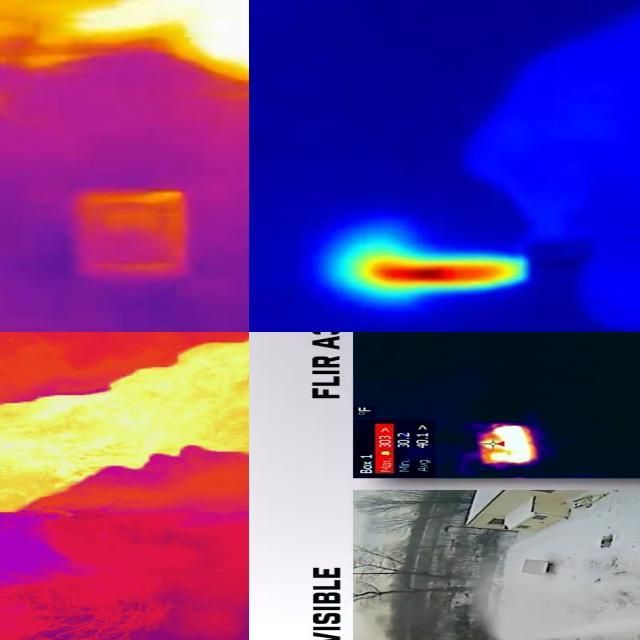fire: (1, 333, 250, 552), (5, 330, 247, 521), (1, 1, 252, 95), (348, 252, 530, 292), (478, 425, 538, 466)
